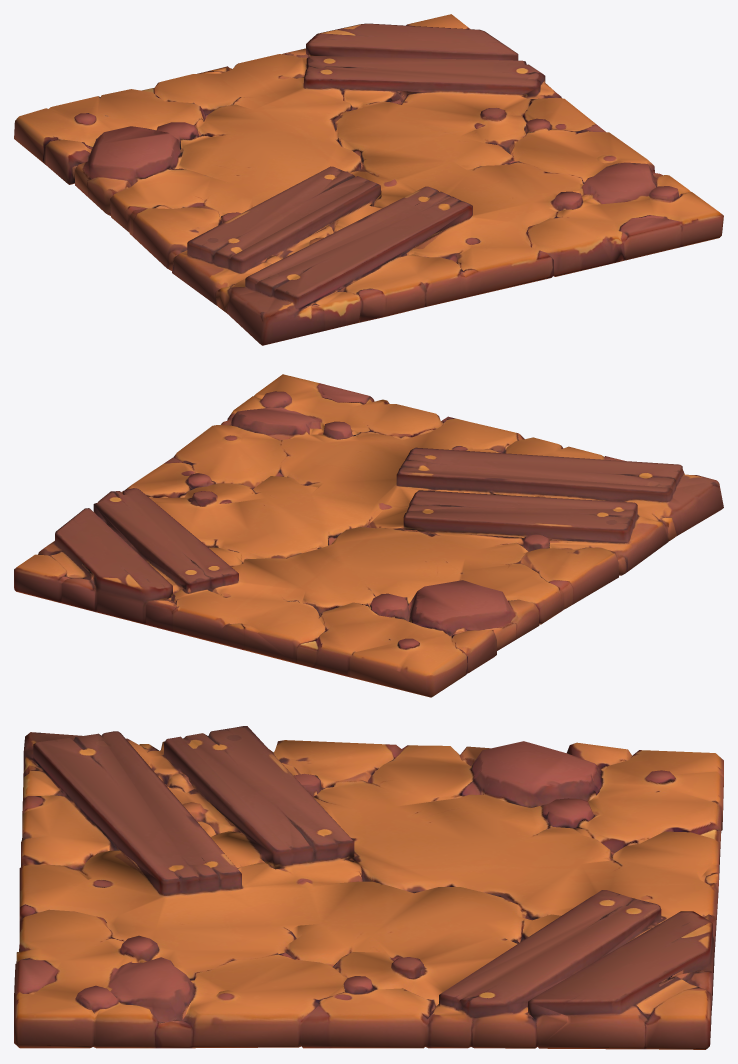
Rendered from Kit_Floor.fbx.
3 views of the same model, one above another, from view 1: azimuth 30°, elevation 25°; view 2: azimuth 150°, elevation 25°; view 3: azimuth 270°, elevation 25° (orthographic). The views are drawn at different scales.
Parts seen in each view (by area): view 1: tripo_node_f503fe92; view 2: tripo_node_f503fe92; view 3: tripo_node_f503fe92.
Boxes of the visible parts, x1=… form: tripo_node_f503fe92: x1=14, y1=14, x2=723, y2=345; tripo_node_f503fe92: x1=14, y1=374, x2=723, y2=697; tripo_node_f503fe92: x1=14, y1=726, x2=723, y2=1049.
Size of the model in its own units: 93.12 by 97.72 by 7.84.
1 material, 1 textured.
